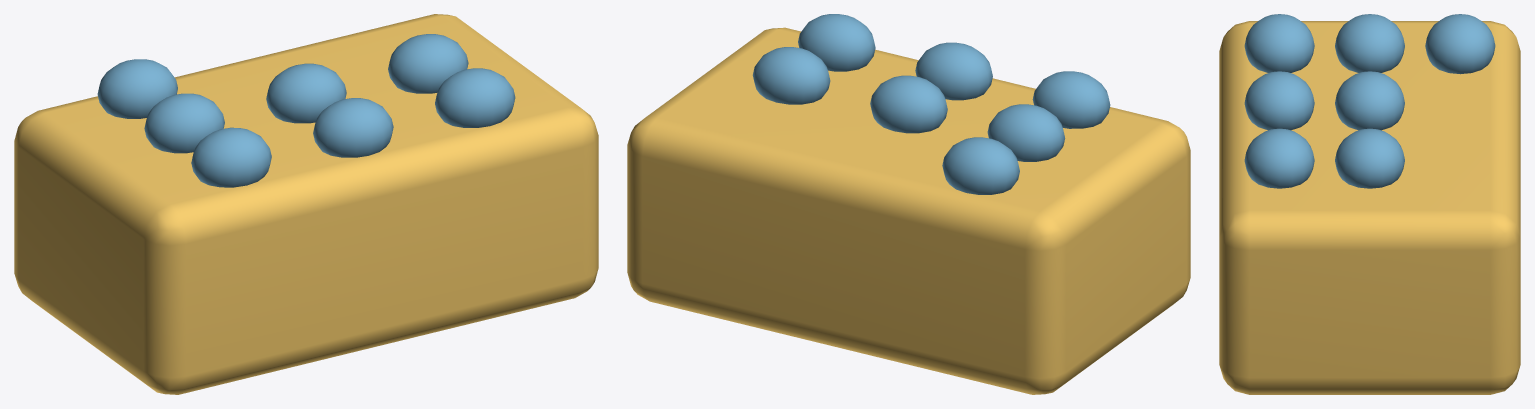
The model's file is ava-opposite-wet.glb.
3 views of the same model, side by side, from view 1: azimuth 30°, elevation 25°; view 2: azimuth 150°, elevation 25°; view 3: azimuth 270°, elevation 25° (orthographic). The views are drawn at different scales.
Visible parts, largest first — view 1: sponge, water drop, water drop.001, water drop.002, water drop.003, water drop.004, water drop.005, water drop.006; view 2: sponge, water drop.004, water drop.005, water drop.006, water drop.001, water drop, water drop.003, water drop.002; view 3: sponge, water drop.006, water drop.002, water drop.005, water drop, water drop.001, water drop.003, water drop.004.
Boxes of the visible parts, x1,y1,x2,y2 form: sponge: (14,14,598,394); water drop: (191,127,271,187); water drop.001: (313,98,393,157); water drop.002: (435,68,515,127); water drop.003: (144,93,224,153); water drop.004: (266,63,346,123); water drop.005: (388,34,468,93); water drop.006: (97,59,177,118); sponge: (627,27,1190,394); water drop.004: (870,75,947,133); water drop.005: (752,47,830,104); water drop.006: (942,137,1019,194); water drop.001: (915,42,992,100); water drop: (1032,71,1110,128); water drop.003: (987,104,1065,161); water drop.002: (798,14,875,71); sponge: (1219,21,1520,394); water drop.006: (1425,14,1495,74); water drop.002: (1244,128,1314,188); water drop.005: (1335,128,1404,188); water drop: (1244,14,1314,72); water drop.001: (1244,71,1314,130); water drop.003: (1335,14,1404,72); water drop.004: (1335,71,1404,130).
Size of the model in its own units: 1 by 0.49 by 0.6.
